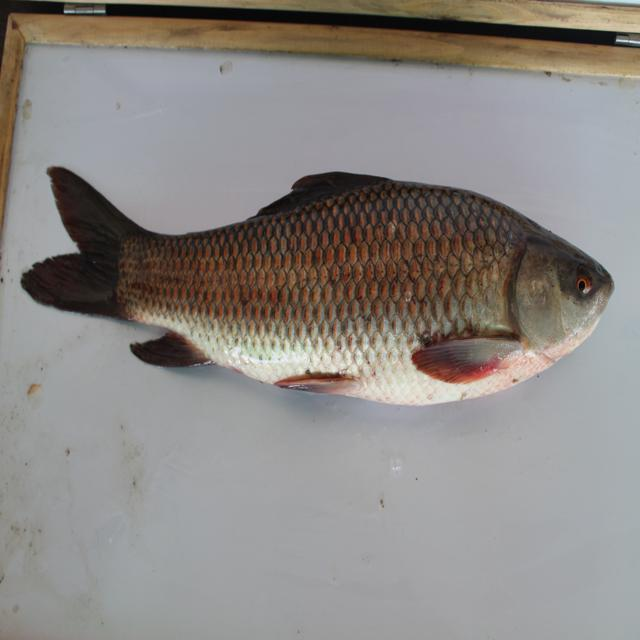Rohu: (32, 151, 620, 410)
